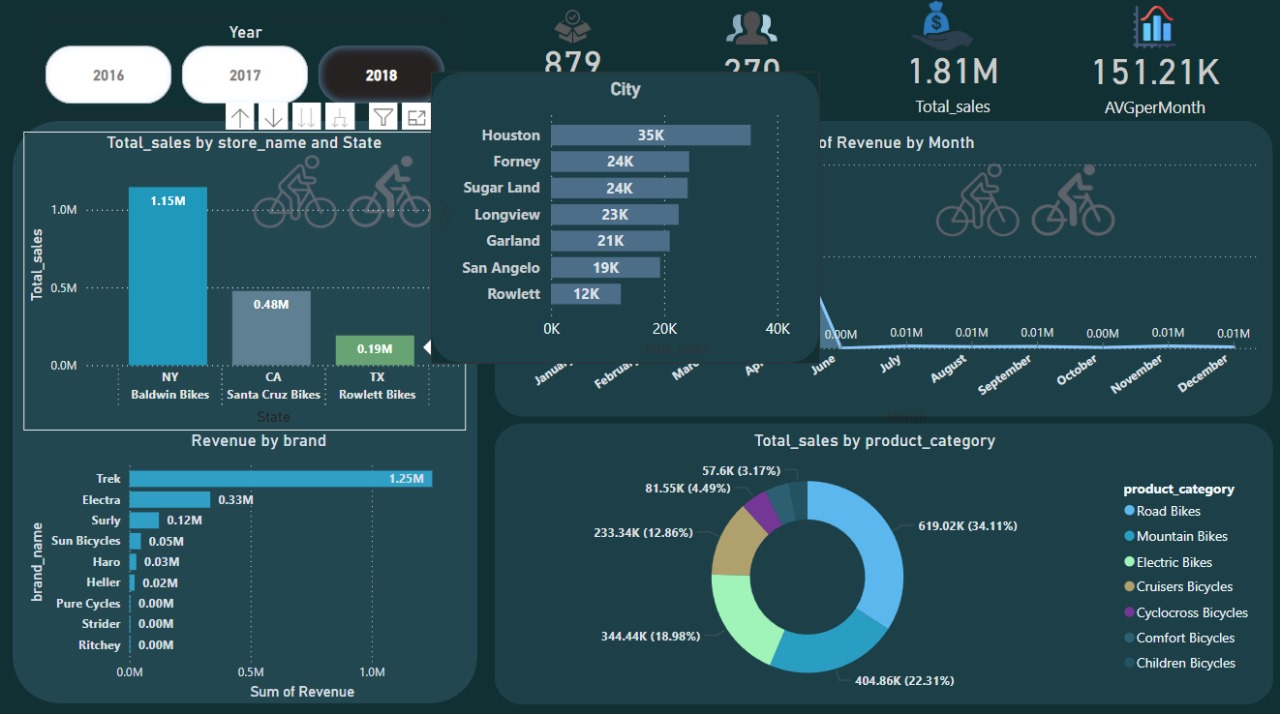

Layout of this report page (visuals, bound fields, positions):
{"tool":"powerbi","page":{"name":"Page 1","canvas":[1280,720],"ordinal":0},"visuals":[{"type":"barChart","title":" Revenue by brand ","fields":{"Y":["Sum(Query1.Revenue)"],"Category":["Query1.brand_name"]},"box":[25.3,433.1,469.3,273.9],"z":0},{"type":"advancedSlicerVisual","fields":{"Values":["Query1.Order_date.Variation.Date Hierarchy.Year"]},"box":[42.2,25.3,409,88.1],"z":1000},{"type":"areaChart","fields":{"Category":["Query1.Order_date.Variation.Date Hierarchy.Month"],"Y":["Sum(Query1.Revenue)"]},"box":[489.8,135.1,773.3,298],"z":2000},{"type":"card","fields":{"Values":["Query1.AVGperMonth"]},"box":[1050.8,32.6,205.1,100.1],"z":4000},{"type":"card","fields":{"Values":["Query1.Total_sales"]},"box":[851.7,31.4,200.3,100.1],"z":5000},{"type":"card","fields":{"Values":["Count(Query1.Customer_name)"]},"box":[651.5,32.6,200.3,100.1],"z":6000},{"type":"donutChart","fields":{"Category":["Query1.product_category"],"Y":["Query1.Total_sales"]},"box":[487.4,433.1,773.3,273.9],"z":7000},{"type":"card","fields":{"Values":["CountNonNull(Query1.Order_id)"]},"box":[472.9,25.3,200.3,100.1],"z":8000},{"type":"image","box":[924.1,108.6,200.3,189.4],"z":9000},{"type":"image","box":[243.7,100.1,200.3,189.4],"z":10000},{"type":"image","box":[673.2,237.7,108.6,137.5],"z":11000},{"type":"shape","box":[14.9,124.6,463.3,581.2],"z":12000},{"type":"shape","box":[494.5,124.6,776.3,295.3],"z":13000},{"type":"clusteredColumnChart","fields":{"Category":["Query1.store_name","Query1.State"],"Y":["Query1.Total_sales"]},"box":[25.7,135.5,440.3,298.1],"z":13500},{"type":"shape","box":[494.6,425.9,776.9,281.1],"z":14000},{"type":"image","box":[520,0,105,63.9],"z":15000},{"type":"image","box":[700.9,0,101.3,63.9],"z":16000},{"type":"image","box":[892.8,0,96.5,63.9],"z":17000},{"type":"image","box":[1105.1,4.8,95.3,51.9],"z":18000}]}

Visuals, with their boxes on the page's 1280x720 design canvas (x1, y1, x2, y2). These are canvas units, not pixel positions in the 1280x714 screenshot, which may show the page scaled, cropped or inside an application window:
" Revenue by brand " barChart: {"x1": 25, "y1": 433, "x2": 495, "y2": 707}
advancedSlicerVisual - Query1.Order_date.Variation.Date Hierarchy.Year: {"x1": 42, "y1": 25, "x2": 451, "y2": 113}
areaChart - Query1.Order_date.Variation.Date Hierarchy.Month x Sum(Query1.Revenue): {"x1": 490, "y1": 135, "x2": 1263, "y2": 433}
card - Query1.AVGperMonth: {"x1": 1051, "y1": 33, "x2": 1256, "y2": 133}
card - Query1.Total_sales: {"x1": 852, "y1": 31, "x2": 1052, "y2": 132}
card - Count(Query1.Customer_name): {"x1": 652, "y1": 33, "x2": 852, "y2": 133}
donutChart - Query1.product_category x Query1.Total_sales: {"x1": 487, "y1": 433, "x2": 1261, "y2": 707}
card - CountNonNull(Query1.Order_id): {"x1": 473, "y1": 25, "x2": 673, "y2": 125}
image: {"x1": 924, "y1": 109, "x2": 1124, "y2": 298}
image: {"x1": 244, "y1": 100, "x2": 444, "y2": 290}
image: {"x1": 673, "y1": 238, "x2": 782, "y2": 375}
shape: {"x1": 15, "y1": 125, "x2": 478, "y2": 706}
shape: {"x1": 494, "y1": 125, "x2": 1271, "y2": 420}
clusteredColumnChart - Query1.store_name x Query1.State: {"x1": 26, "y1": 136, "x2": 466, "y2": 434}
shape: {"x1": 495, "y1": 426, "x2": 1272, "y2": 707}
image: {"x1": 520, "y1": 0, "x2": 625, "y2": 64}
image: {"x1": 701, "y1": 0, "x2": 802, "y2": 64}
image: {"x1": 893, "y1": 0, "x2": 989, "y2": 64}
image: {"x1": 1105, "y1": 5, "x2": 1200, "y2": 57}
